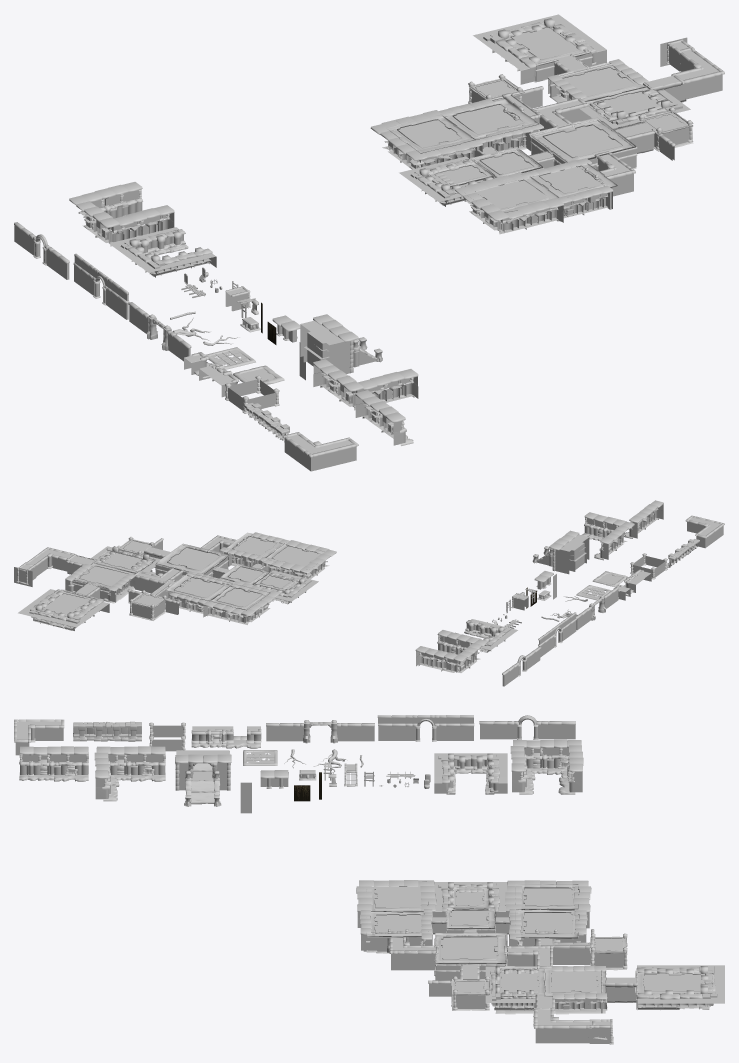
The model's file is BlendDr.fbx.
The picture shows the model from 3 angles, top to bottom: view 1: azimuth 30°, elevation 25°; view 2: azimuth 150°, elevation 25°; view 3: azimuth 270°, elevation 25°; orthographic projection. The views are drawn at different scales.
Visible parts, largest first — view 1: polySurface2071, polySurface1787.003, polySurface3106, polySurface1787, polySurface2071.001, polySurface1948, polySurface2478.021, polySurface2071.002, polySurface2478.018, polySurface2617, polySurface2478.023, polySurface2478.017 (+20 smaller); view 2: polySurface2071, polySurface1787.003, polySurface3106, polySurface2071.002, polySurface1948, polySurface2478.021, polySurface2071.001, polySurface2478.018, polySurface1787, polySurface2478.023, polySurface2617, polySurface2478.017 (+26 smaller); view 3: polySurface2071, polySurface1948, polySurface3106, polySurface1787.003, polySurface1787, polySurface1138, polySurface2972, polySurface2478.021, polySurface1468, polySurface3133, polySurface2478.018, polySurface2617.004 (+27 smaller).
Part boxes in pixels (box(x1,y1,x2,y2)): polySurface2071: box(69, 182, 174, 246); polySurface1787.003: box(473, 14, 606, 84); polySurface3106: box(300, 314, 382, 373); polySurface1787: box(109, 227, 216, 277); polySurface2071.001: box(455, 172, 563, 234); polySurface1948: box(313, 359, 418, 410); polySurface2478.021: box(529, 117, 636, 162); polySurface2071.002: box(370, 110, 482, 169); polySurface2478.018: box(441, 99, 538, 140); polySurface2617: box(283, 432, 358, 471); polySurface2478.023: box(558, 62, 648, 102); polySurface2478.017: box(386, 114, 475, 153); polySurface2071: box(415, 630, 487, 672); polySurface1787.003: box(18, 589, 109, 630); polySurface3106: box(532, 530, 589, 574); polySurface2071.002: box(203, 581, 280, 624); polySurface1948: box(581, 512, 634, 560); polySurface2478.021: box(156, 543, 229, 574); polySurface2071.001: box(262, 540, 336, 579); polySurface2478.018: box(165, 573, 232, 600); polySurface1787: box(455, 619, 517, 652); polySurface2478.023: box(72, 562, 135, 589); polySurface2617: box(685, 515, 724, 548); polySurface2478.017: box(209, 583, 270, 610); polySurface2071: box(510, 739, 583, 794); polySurface1948: box(94, 746, 165, 801); polySurface3106: box(175, 750, 231, 806); polySurface1787.003: box(636, 965, 724, 1009); polySurface1787: box(434, 753, 507, 794); polySurface1138: box(19, 746, 88, 781); polySurface2972: box(377, 715, 474, 741); polySurface2478.021: box(434, 932, 507, 964); polySurface1468: box(266, 720, 374, 743); polySurface3133: box(479, 715, 575, 739); polySurface2478.018: box(515, 908, 579, 939); polySurface2617.004: box(533, 1008, 595, 1043).
Bounding box in the file's own units: 14561 × 1300 × 13964.
